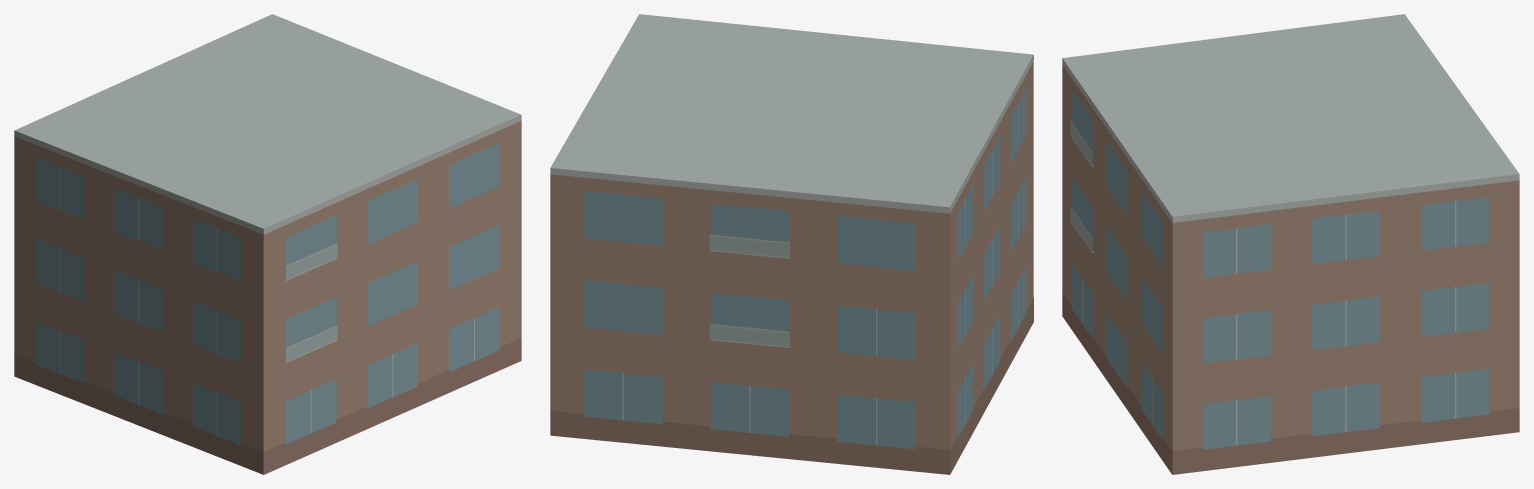
The model's file is survey-upis-32493246.glb.
3 renders of one model, left to right at view 1: azimuth 30°, elevation 25°; view 2: azimuth 150°, elevation 25°; view 3: azimuth 270°, elevation 25°, orthographic. The views are drawn at different scales.
Visible parts, largest first — view 1: survey-upis-32493246.tmp; view 2: survey-upis-32493246.tmp; view 3: survey-upis-32493246.tmp.
Boxes of the visible parts, x1,y1,x2,y2 form: survey-upis-32493246.tmp: [14, 14, 521, 474]; survey-upis-32493246.tmp: [550, 14, 1033, 474]; survey-upis-32493246.tmp: [1062, 14, 1519, 474].
Bounding box in the file's own units: 17.21 × 10.2 × 16.39.
